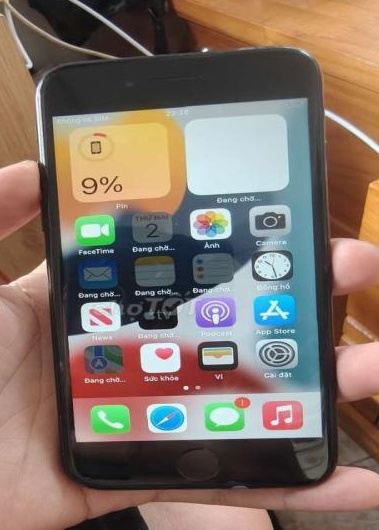scratch: (177, 42, 317, 62)
